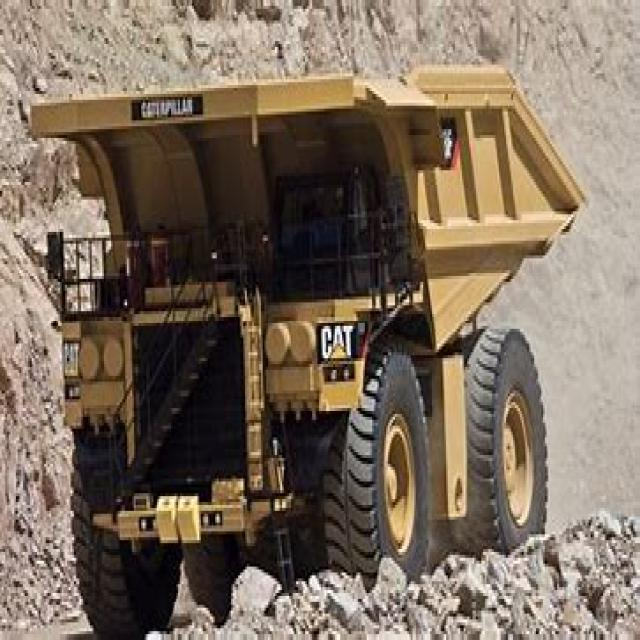dump_truck: (21, 29, 598, 628)
